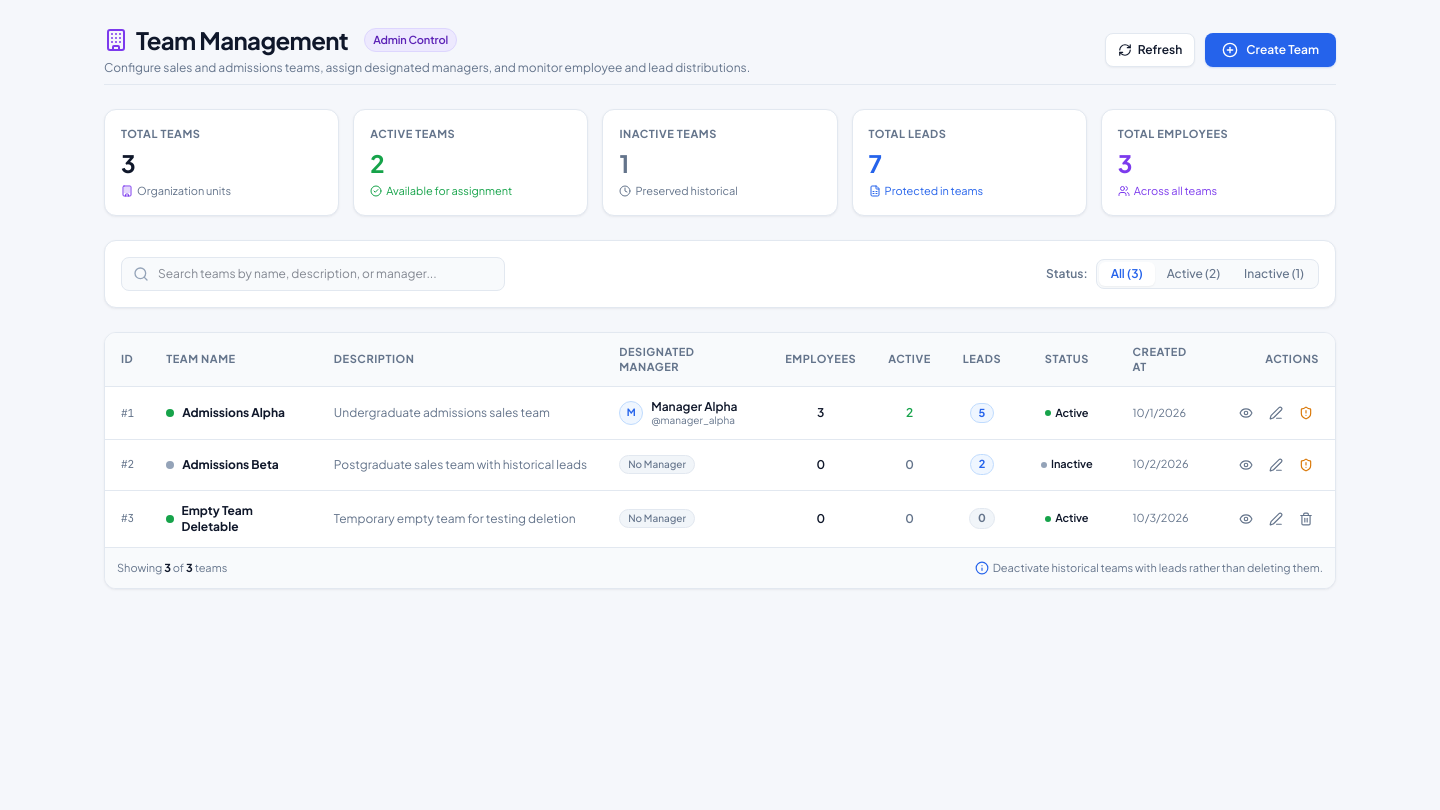
Skill Move Sales CRM — Phase 4: Team Management Interface › 3. Create Team Workflow & Constraints › displays warning when an already assigned manager is chosen in Create Team
Expected: the text "Admissions Alpha" is shown, [182,405,285,421]
Click the button with id "create-team-btn". click: (1271, 50)
box: [1205,33,1336,67]
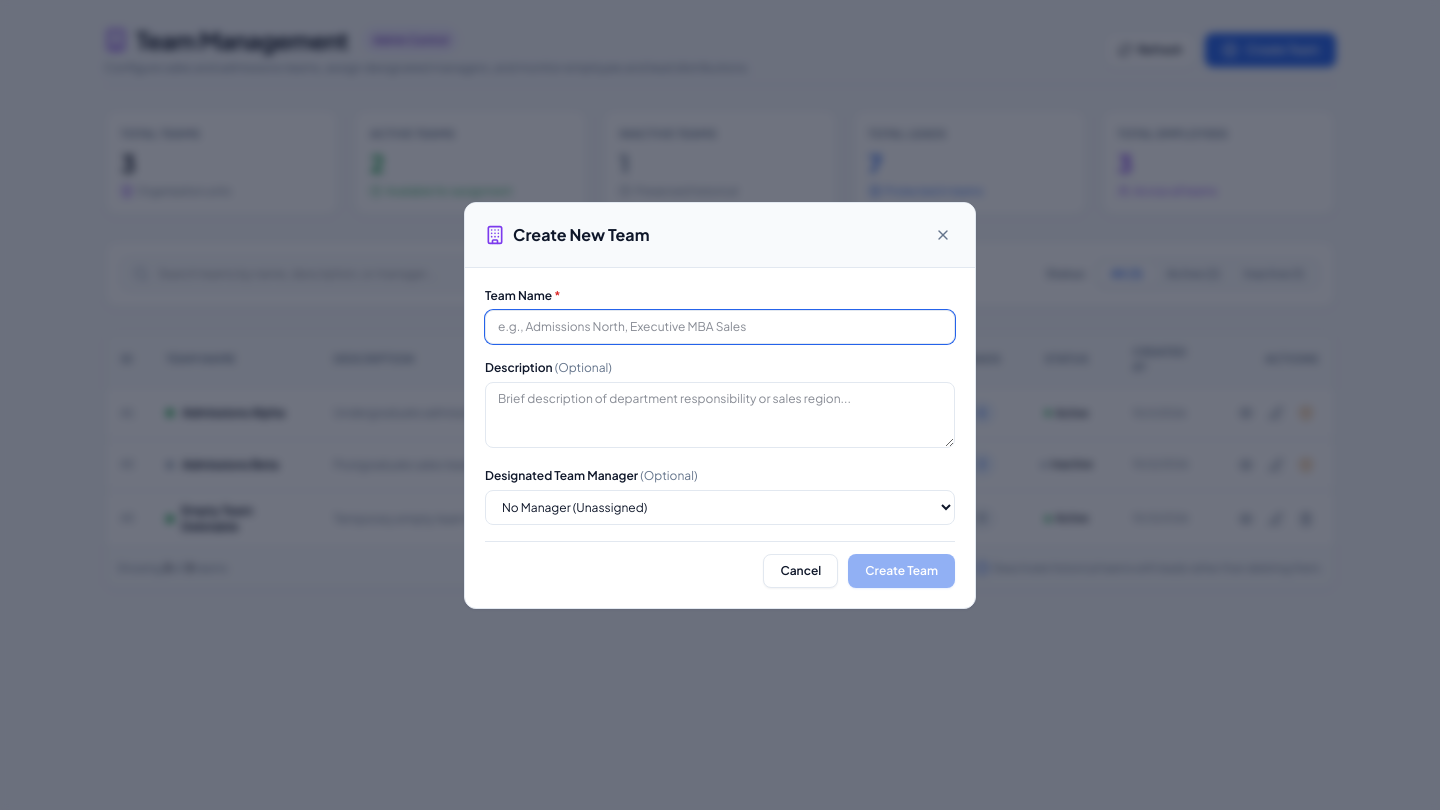
Select "Manager Alpha (manager.alpha@skillmove.edu) — Currently manages \"Admissions Alph" in the dropdown with id "create-team-manager-select". click: (720, 507)
box: [485,490,955,524]
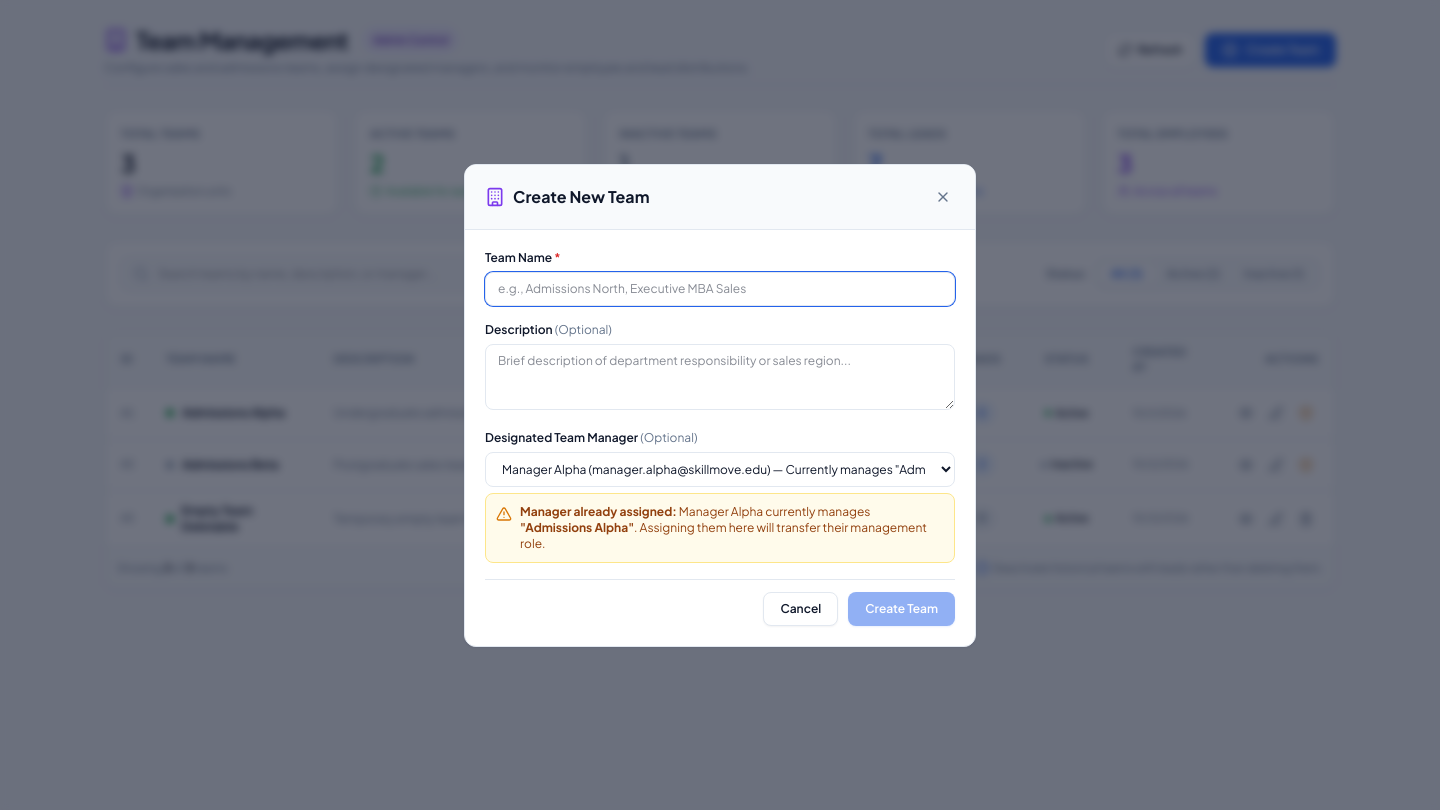
Now the text "Manager already assigned:" is shown, box [520,504,677,518]
